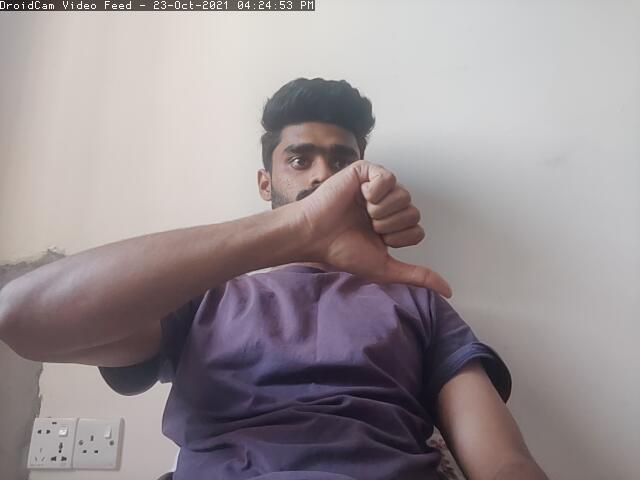ThumbsDown: (312, 161, 454, 311)
